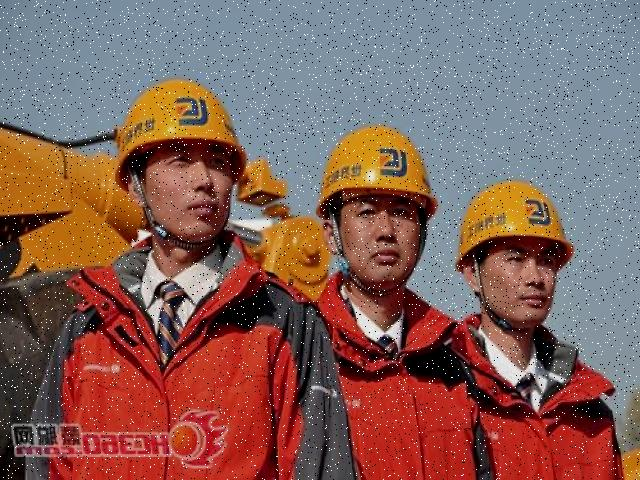Helmet: (112, 71, 250, 198), (449, 173, 583, 275), (314, 119, 443, 221)
